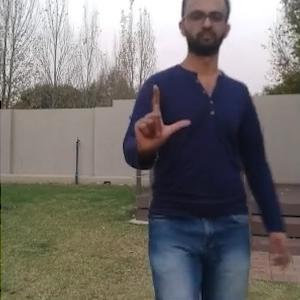land_hand: (129, 79, 192, 155)
